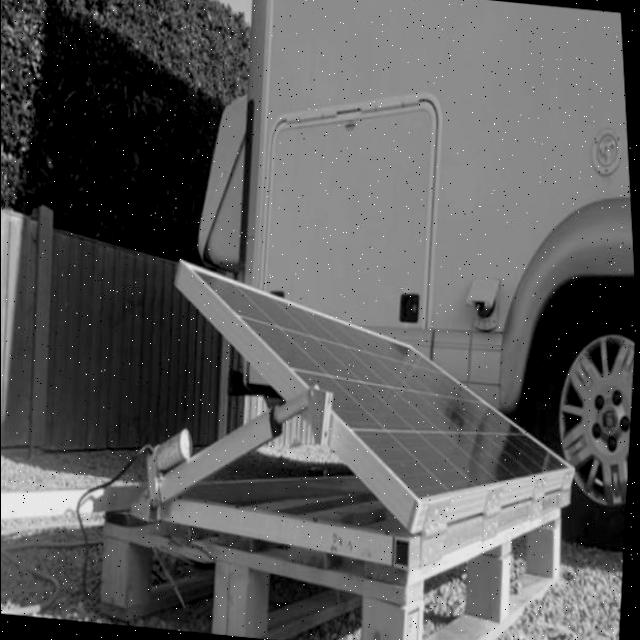Normal Solar Panel: (173, 272, 595, 524)
